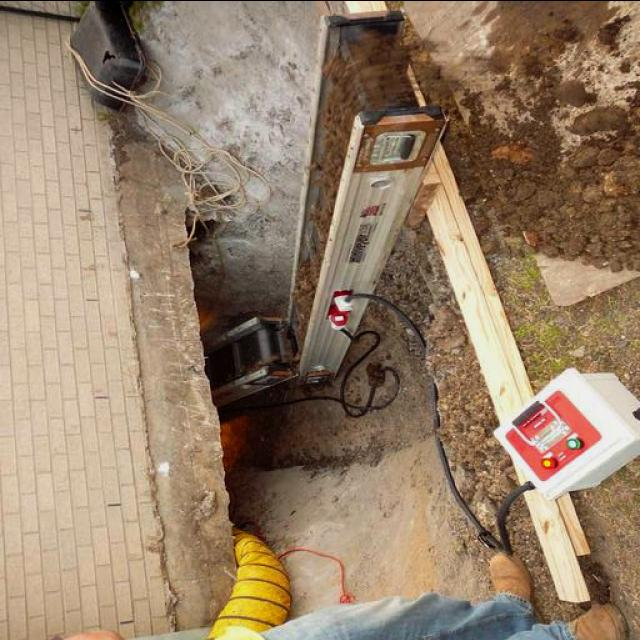conveyor: (214, 27, 369, 389)
